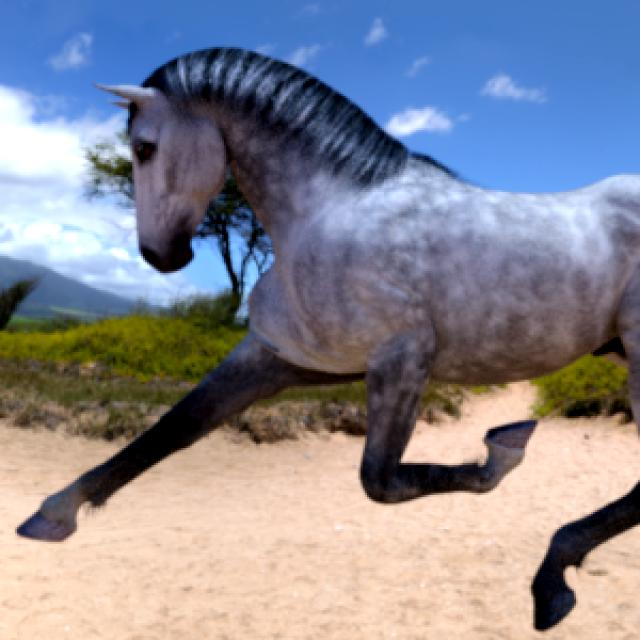horse: (18, 49, 640, 541)
